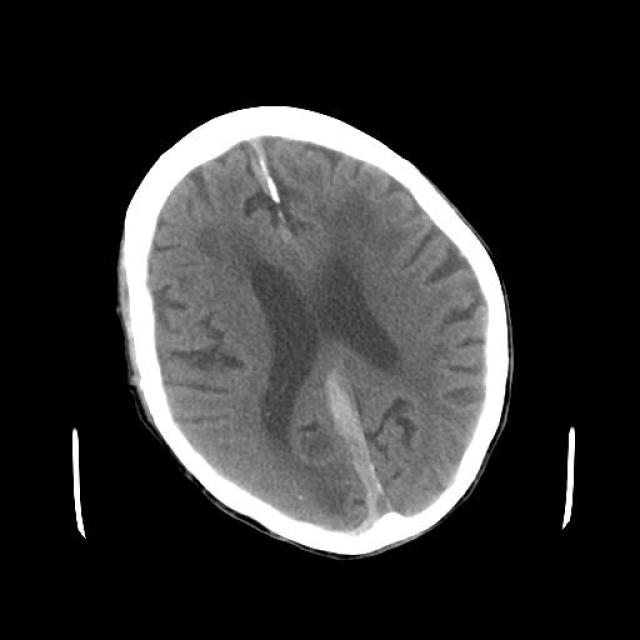Subdural: (324, 377, 408, 545)
